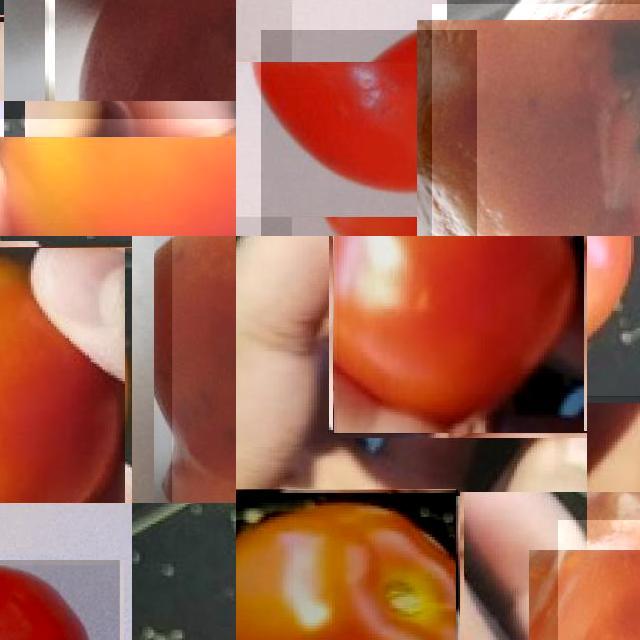Fresh Tomato: (333, 236, 587, 433), (260, 30, 477, 236), (0, 247, 132, 503), (236, 490, 458, 640), (0, 118, 236, 236), (587, 236, 640, 396)
Rotten Tomato: (432, 4, 640, 236), (49, 0, 236, 101)
